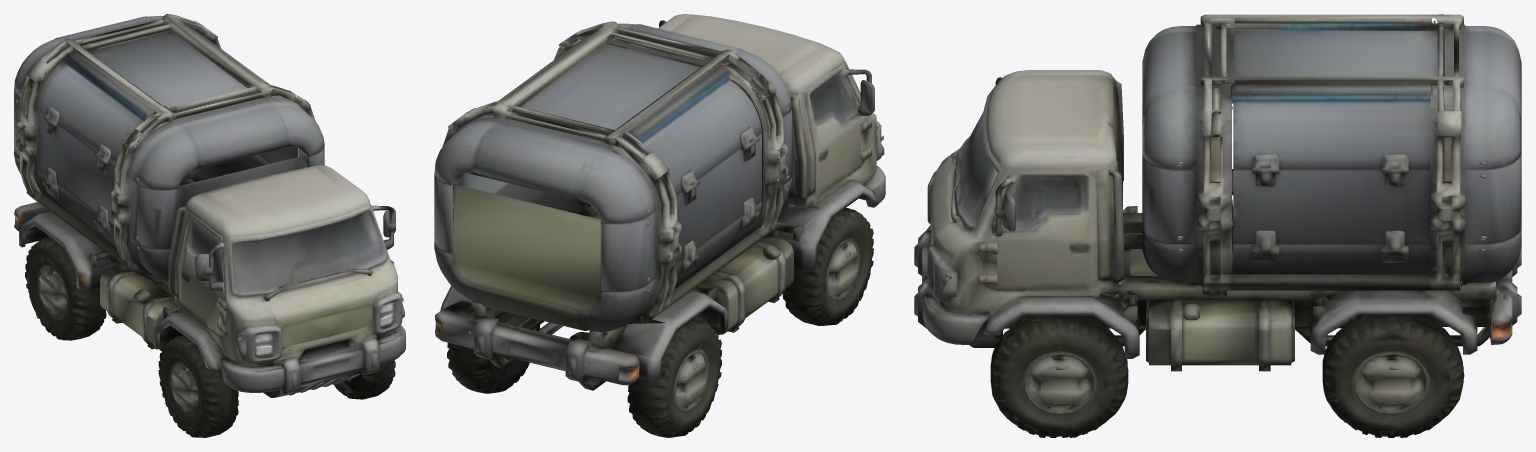
Rendered from van.glb.
The picture shows the model from 3 angles, left to right: view 1: azimuth 30°, elevation 25°; view 2: azimuth 150°, elevation 25°; view 3: azimuth 270°, elevation 25°; orthographic projection. The views are drawn at different scales.
Visible parts, largest first — view 1: material; view 2: material; view 3: material.
Part boxes in pixels (x1,y1,x2,y2): material: [14, 14, 405, 437]; material: [434, 14, 885, 437]; material: [914, 14, 1521, 437].
Size of the model in its own units: 0.9214 by 1.16 by 1.9.
Materials: 1 (1 with a texture image).
